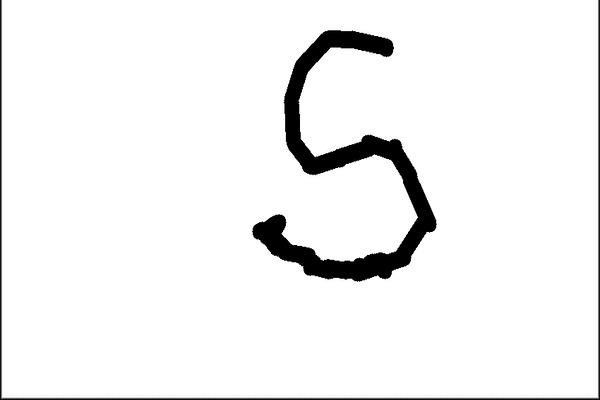S: (238, 21, 443, 306)
